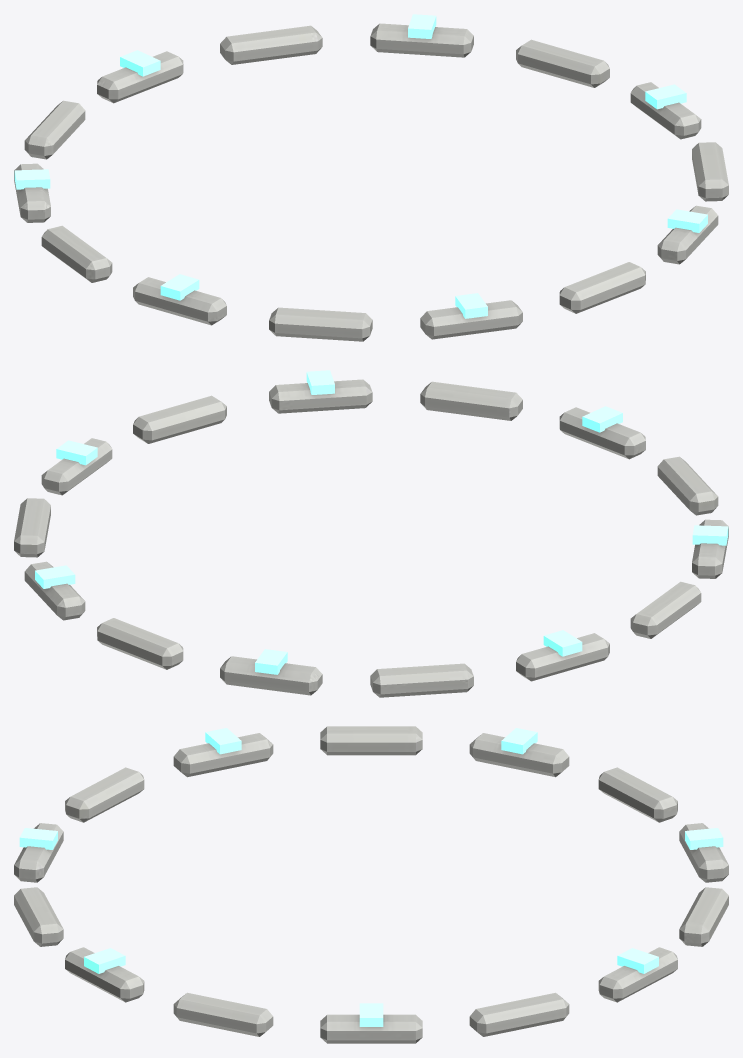
The model's file is collector_ring.glb.
The picture shows the model from 3 angles, top to bottom: view 1: azimuth 30°, elevation 25°; view 2: azimuth 150°, elevation 25°; view 3: azimuth 270°, elevation 25°; orthographic projection.
Parts seen in each view (by area): view 1: collector_ring, collector_ring_glow; view 2: collector_ring, collector_ring_glow; view 3: collector_ring, collector_ring_glow.
Part boxes in pixels (box(x1,y1,x2,y2)): collector_ring: box(14, 23, 728, 341); collector_ring_glow: box(14, 14, 707, 318); collector_ring: box(14, 379, 728, 697); collector_ring_glow: box(35, 370, 728, 674); collector_ring: box(14, 726, 728, 1043); collector_ring_glow: box(19, 728, 723, 1026).
Size of the model in its own units: 2.1 by 0.095 by 2.1.
2 materials, 1 textured.
